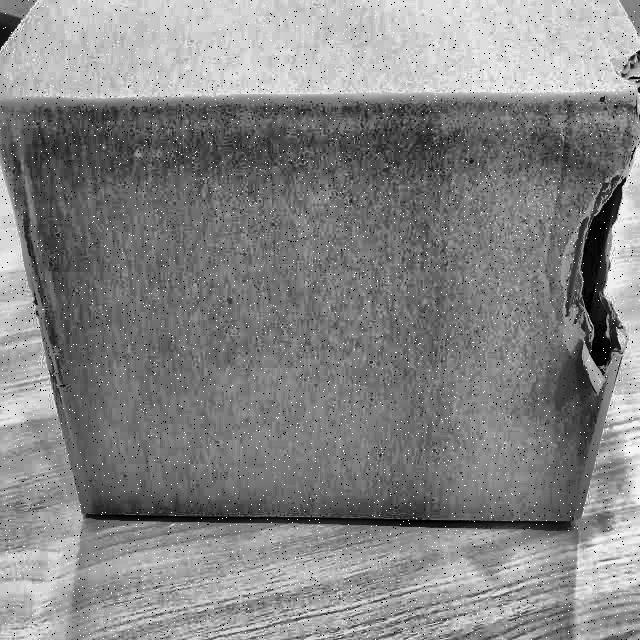box: (1, 0, 640, 535)
hole: (572, 176, 632, 387)
